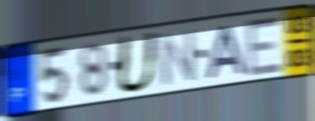5: (38, 43, 72, 105)
8: (75, 42, 110, 98)
A: (205, 23, 249, 82)
E: (244, 14, 286, 78)
N: (156, 27, 198, 88)
U: (114, 29, 161, 96)
